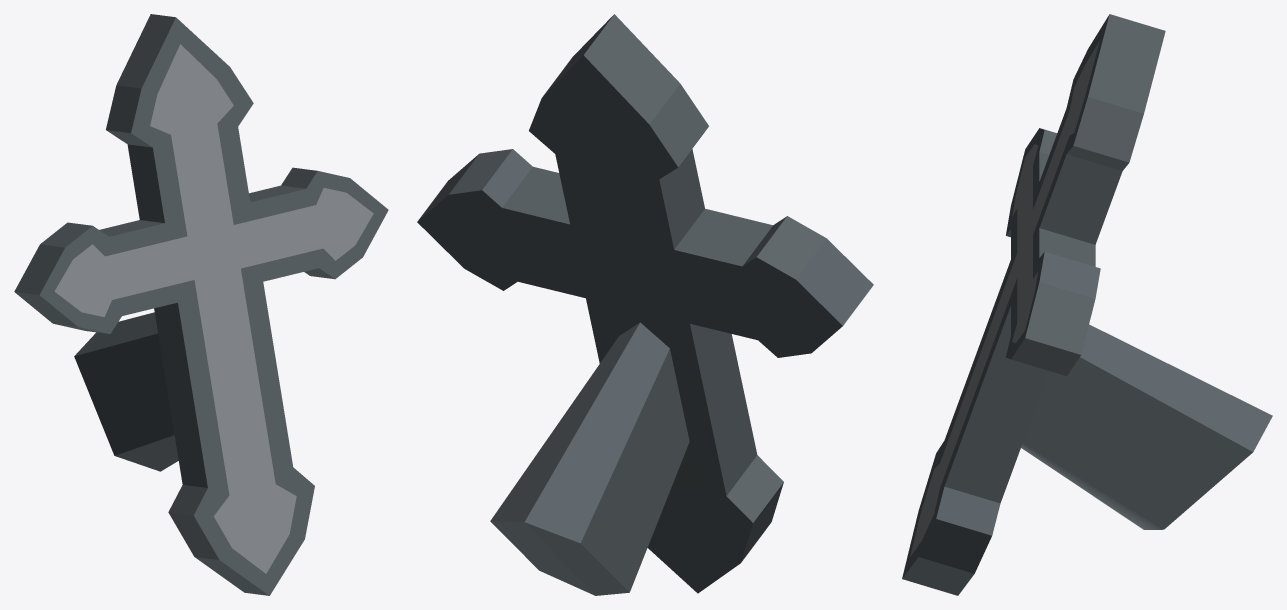
File: Chr_HelmetAttachment_11_Static.fbx
The picture shows the model from 3 angles, left to right: view 1: azimuth 30°, elevation 25°; view 2: azimuth 150°, elevation 25°; view 3: azimuth 270°, elevation 25°; orthographic projection. The views are drawn at different scales.
Visible parts, largest first — view 1: Chr_HelmetAttachment_11_Static; view 2: Chr_HelmetAttachment_11_Static; view 3: Chr_HelmetAttachment_11_Static.
Boxes of the visible parts, bbox=[...] form: Chr_HelmetAttachment_11_Static: bbox=[14, 14, 388, 595]; Chr_HelmetAttachment_11_Static: bbox=[417, 14, 873, 595]; Chr_HelmetAttachment_11_Static: bbox=[902, 14, 1272, 595].
Bounding box in the file's own units: 0.1667 × 0.2396 × 0.1384.
